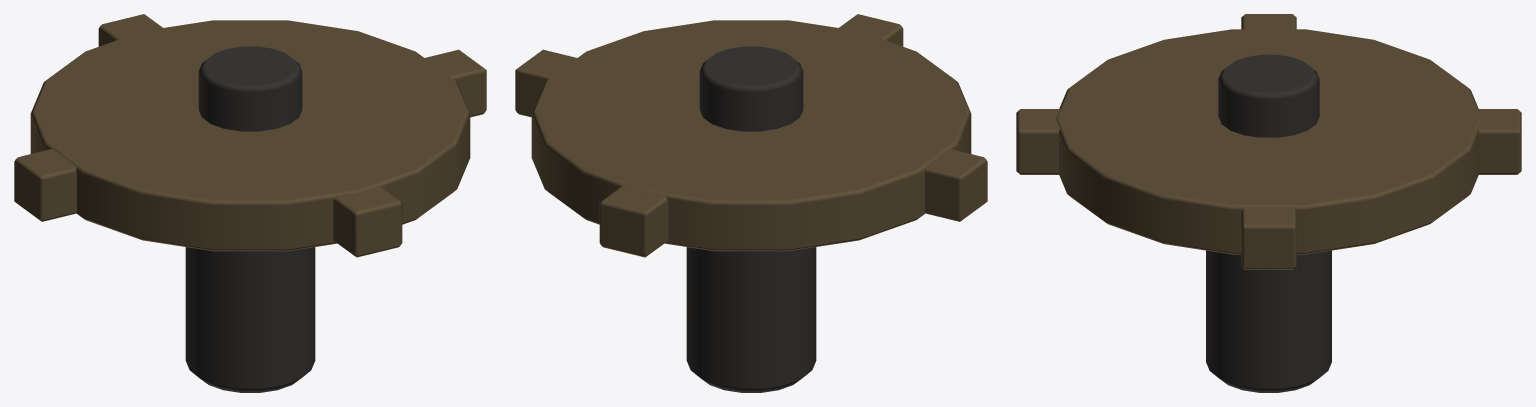
Rendered from gear.7b4ba4f8.glb.
The picture shows the model from 3 angles, left to right: view 1: azimuth 30°, elevation 25°; view 2: azimuth 150°, elevation 25°; view 3: azimuth 270°, elevation 25°; orthographic projection. The views are drawn at different scales.
Parts seen in each view (by area): view 1: body; view 2: body; view 3: body.
Part boxes in pixels (x1=…): body: x1=14, y1=14, x2=486, y2=392; body: x1=515, y1=14, x2=987, y2=392; body: x1=1016, y1=14, x2=1521, y2=392.
Bounding box in the file's own units: 2 × 1.3 × 2.
